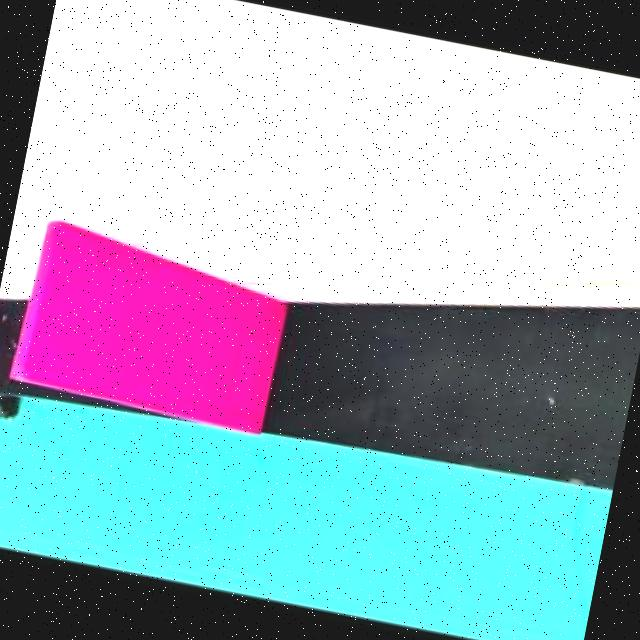xparking: (22, 230, 280, 420)
